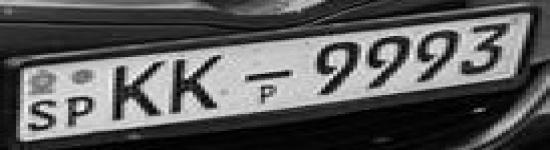-: (241, 67, 296, 85)
9: (313, 39, 363, 98), (461, 22, 514, 76), (414, 29, 461, 85), (366, 34, 412, 91)
K: (102, 60, 168, 124), (168, 55, 230, 116)
P: (60, 94, 99, 129)
S: (26, 98, 60, 132)
